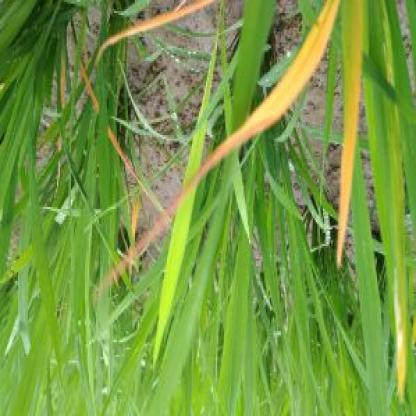Tungro: (331, 6, 370, 273)
